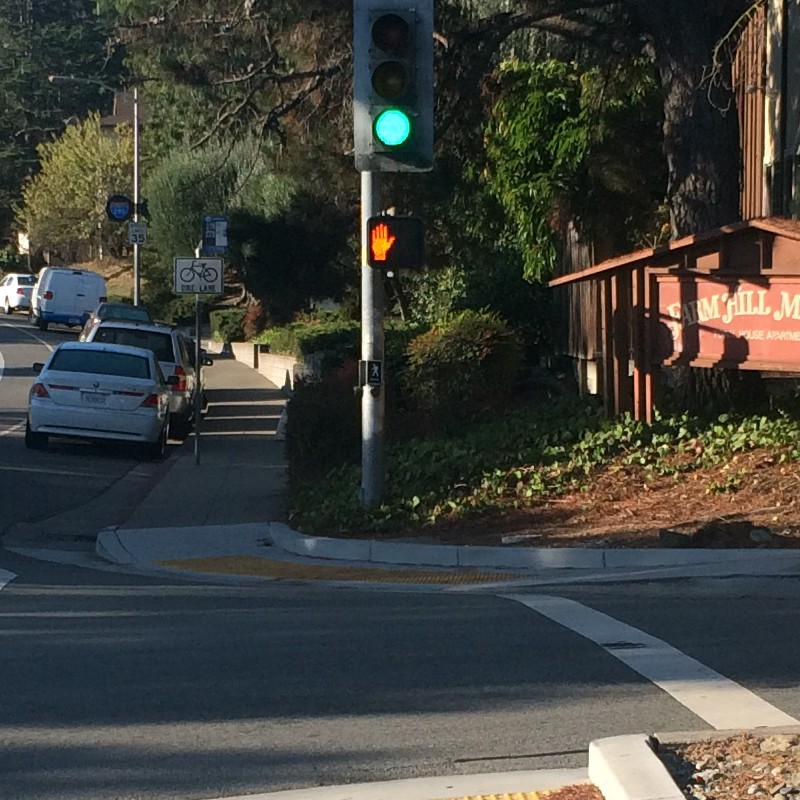stop: (360, 215, 425, 271)
